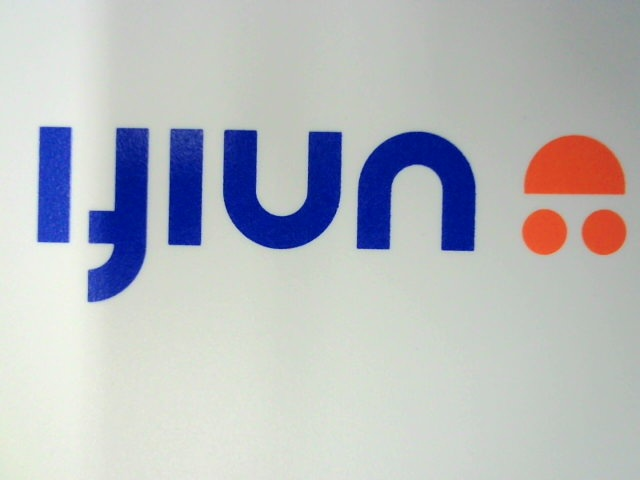BN_unifi: (20, 119, 629, 315)
